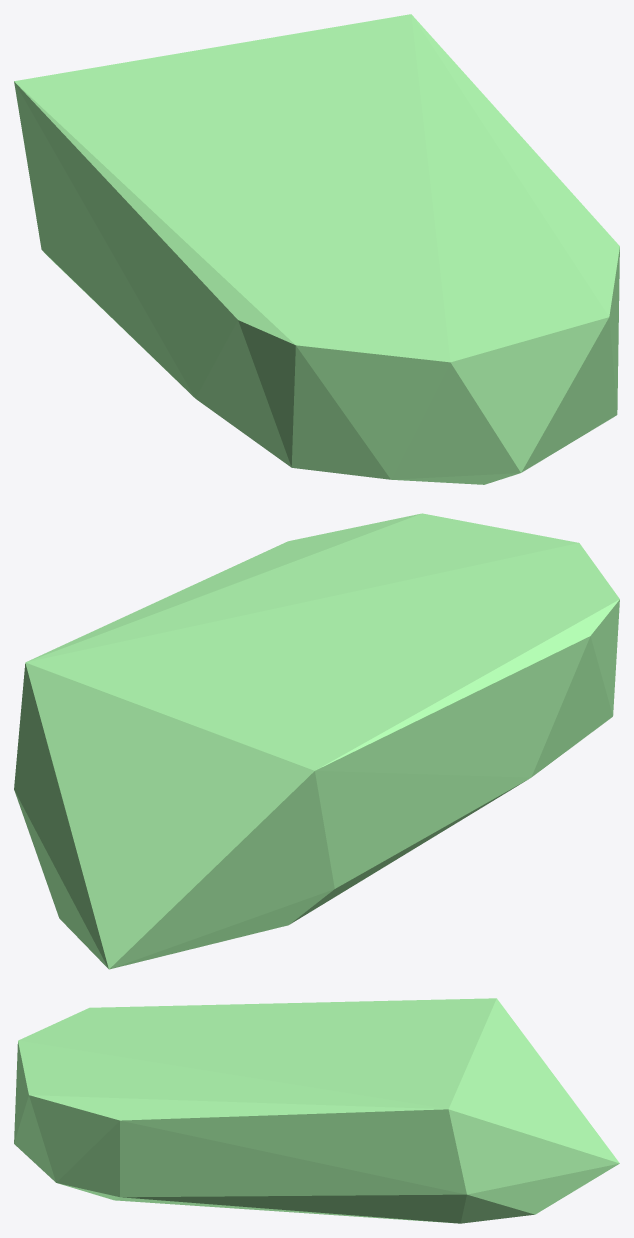
Rendered from linkhou_LR4_R560_link3_respondable_coll_9.dae.
3 views of the same model, one above another, from view 1: azimuth 30°, elevation 25°; view 2: azimuth 150°, elevation 25°; view 3: azimuth 270°, elevation 25° (orthographic). The views are drawn at different scales.
Parts seen in each view (by area): view 1: Node_00000209DB3AD520; view 2: Node_00000209DB3AD520; view 3: Node_00000209DB3AD520.
Boxes of the visible parts, bbox=[...] form: Node_00000209DB3AD520: bbox=[14, 14, 619, 484]; Node_00000209DB3AD520: bbox=[14, 513, 619, 969]; Node_00000209DB3AD520: bbox=[14, 998, 619, 1223].
Bounding box in the file's own units: 0.1137 × 0.0572 × 0.2267.
